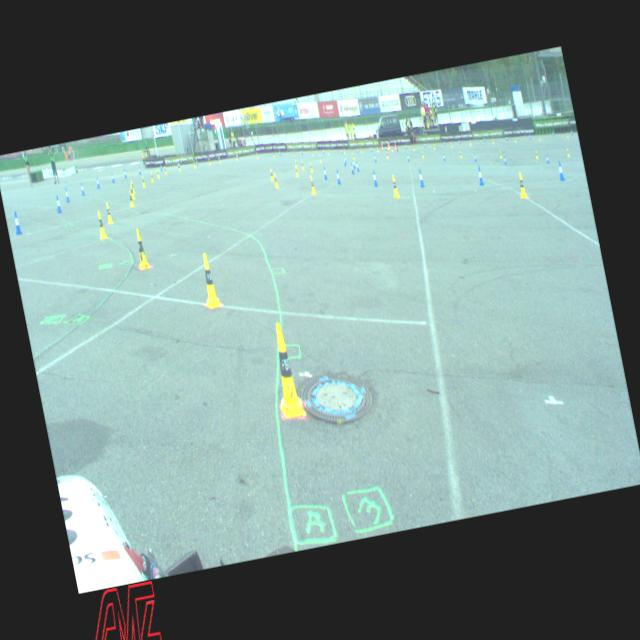blue_cone: (12, 212, 22, 236), (556, 160, 566, 182), (476, 164, 485, 186), (54, 194, 63, 214), (418, 168, 426, 188), (79, 181, 86, 197), (372, 170, 378, 188), (64, 187, 70, 203), (322, 165, 328, 181), (95, 177, 101, 190), (336, 169, 340, 185), (503, 154, 508, 166), (545, 154, 550, 165), (473, 152, 478, 162), (110, 172, 115, 182), (123, 168, 127, 180), (343, 156, 347, 168), (350, 162, 354, 173), (373, 153, 377, 164), (138, 165, 142, 175), (356, 161, 360, 171), (442, 153, 446, 162), (406, 153, 410, 162), (159, 163, 163, 172), (195, 158, 199, 167), (344, 154, 347, 165), (352, 160, 356, 168), (570, 129, 574, 135), (370, 146, 373, 154), (483, 136, 486, 144), (552, 131, 555, 138), (529, 133, 532, 140), (443, 139, 446, 146), (458, 138, 461, 145), (405, 144, 408, 150), (506, 136, 508, 142), (424, 142, 426, 148)
large_orange_cone: (388, 142, 390, 152)
yellow_cone: (265, 319, 307, 422), (196, 251, 223, 311), (131, 226, 152, 272), (95, 210, 108, 240), (515, 171, 528, 200), (390, 174, 400, 199), (104, 202, 114, 226), (308, 174, 317, 196), (272, 172, 280, 190), (128, 190, 135, 208), (130, 178, 136, 194), (130, 184, 135, 200), (294, 166, 300, 178), (270, 167, 274, 181), (534, 149, 539, 160), (141, 176, 146, 187), (150, 172, 154, 184), (449, 140, 454, 149), (164, 166, 168, 177), (156, 168, 160, 179), (566, 147, 570, 158), (300, 160, 304, 171), (458, 150, 462, 160), (318, 154, 322, 164), (432, 142, 436, 152), (498, 150, 502, 159), (386, 151, 390, 160), (468, 138, 472, 147), (294, 160, 298, 169), (309, 163, 313, 172), (208, 157, 212, 166), (193, 160, 197, 169), (421, 150, 425, 159), (352, 152, 356, 161), (178, 163, 182, 172), (491, 136, 495, 144), (412, 144, 416, 152), (538, 134, 542, 142), (327, 148, 330, 157), (566, 132, 569, 140), (219, 157, 222, 165), (311, 150, 314, 158), (376, 146, 379, 153), (236, 152, 238, 162), (360, 148, 363, 154), (344, 147, 346, 156), (514, 136, 516, 144)
